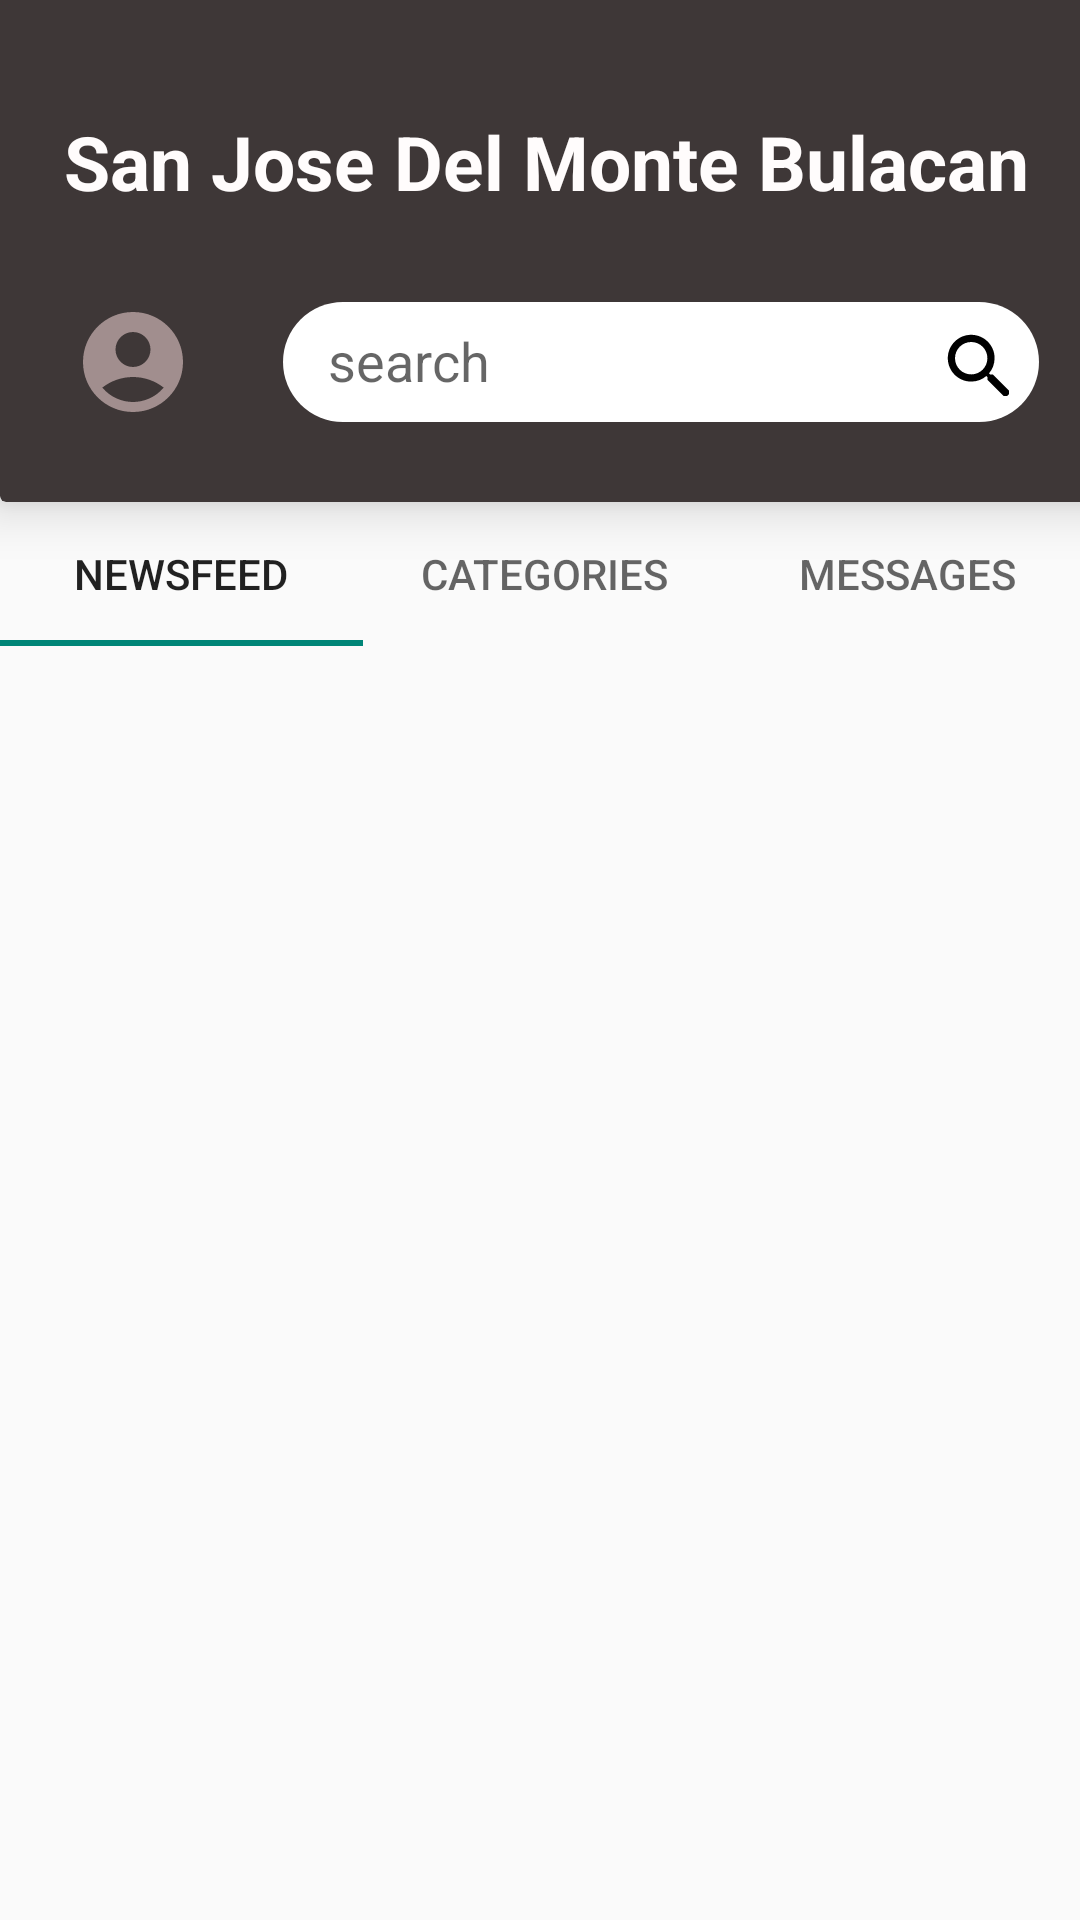

Locate icon controls on the screen. Image size 1080x1920, boxes as (x1, y1, x2, y2).
account: (83, 312, 183, 412)
